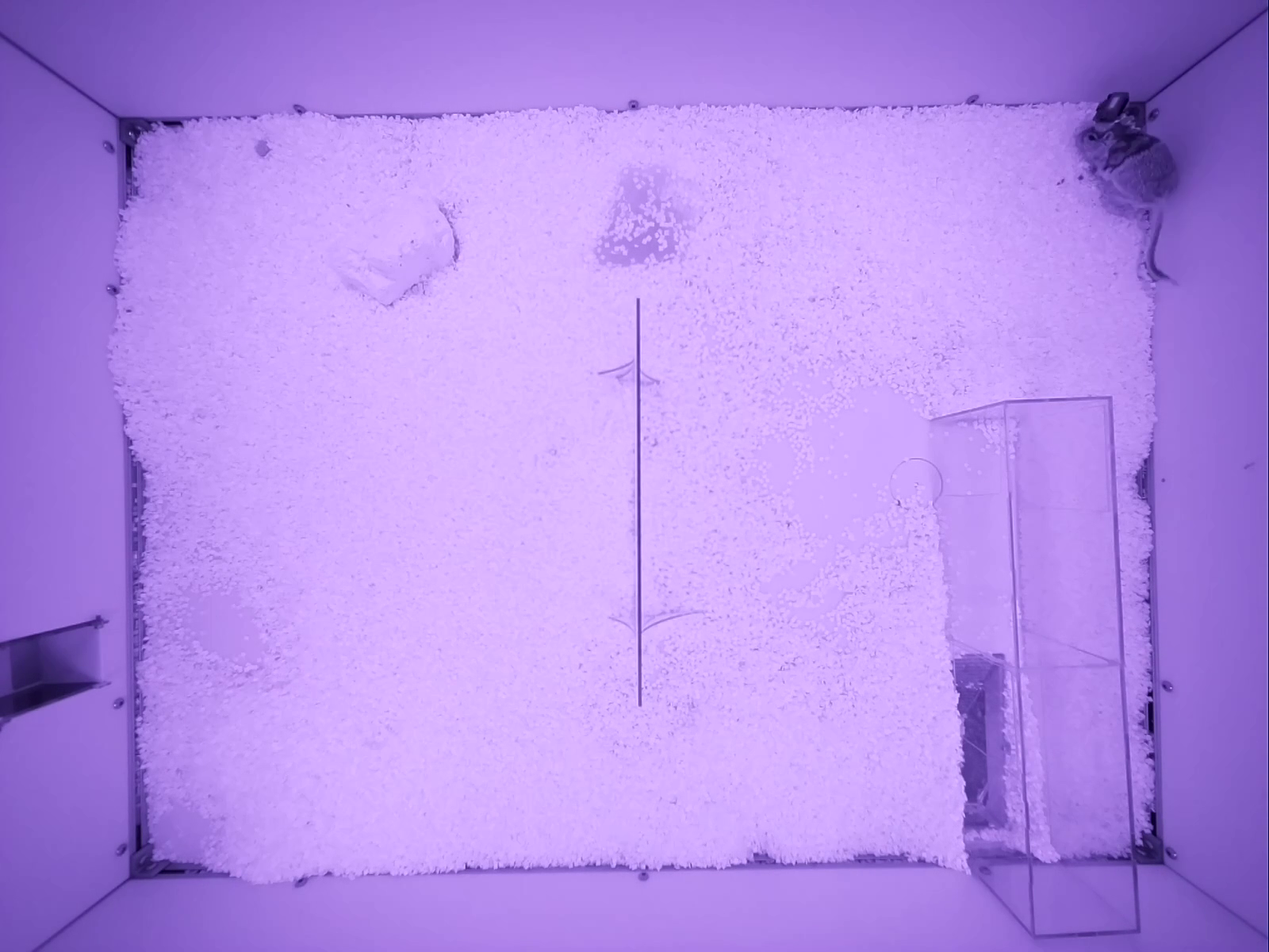adult_back: (1077, 120, 1177, 280)
